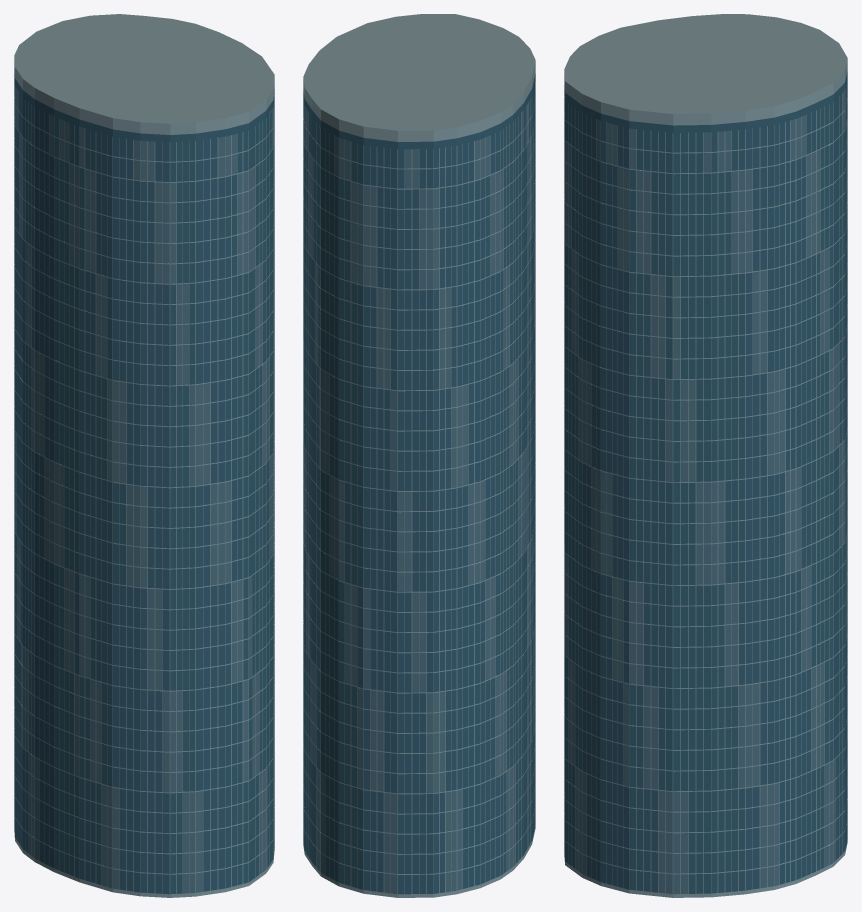
File: skytower-bucharest-near.glb
3 views of the same model, side by side, from view 1: azimuth 30°, elevation 25°; view 2: azimuth 150°, elevation 25°; view 3: azimuth 270°, elevation 25° (orthographic). The views are drawn at different scales.
Parts seen in each view (by area): view 1: skytower-bucharest-0-glass, skytower-bucharest-0-frame, skytower-bucharest-0-glassLight, skytower-bucharest-0-roof; view 2: skytower-bucharest-0-glass, skytower-bucharest-0-frame, skytower-bucharest-0-glassLight, skytower-bucharest-0-roof; view 3: skytower-bucharest-0-glass, skytower-bucharest-0-frame, skytower-bucharest-0-glassLight, skytower-bucharest-0-roof.
Boxes of the visible parts, <box> form: skytower-bucharest-0-glass: <box>14,70,274,894</box>; skytower-bucharest-0-frame: <box>14,58,274,897</box>; skytower-bucharest-0-glassLight: <box>14,86,274,893</box>; skytower-bucharest-0-roof: <box>14,14,274,123</box>; skytower-bucharest-0-glass: <box>303,73,535,894</box>; skytower-bucharest-0-frame: <box>303,62,535,897</box>; skytower-bucharest-0-glassLight: <box>303,94,535,893</box>; skytower-bucharest-0-roof: <box>303,14,535,130</box>; skytower-bucharest-0-glass: <box>564,71,847,893</box>; skytower-bucharest-0-frame: <box>564,60,847,897</box>; skytower-bucharest-0-glassLight: <box>564,85,847,894</box>; skytower-bucharest-0-roof: <box>564,14,847,113</box>.
Bounding box in the file's own units: 37.52 × 137 × 44.93.
